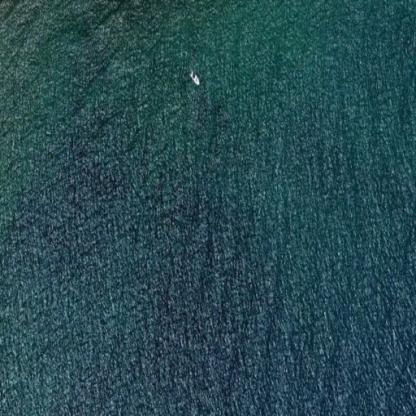ship: (178, 62, 203, 88)
